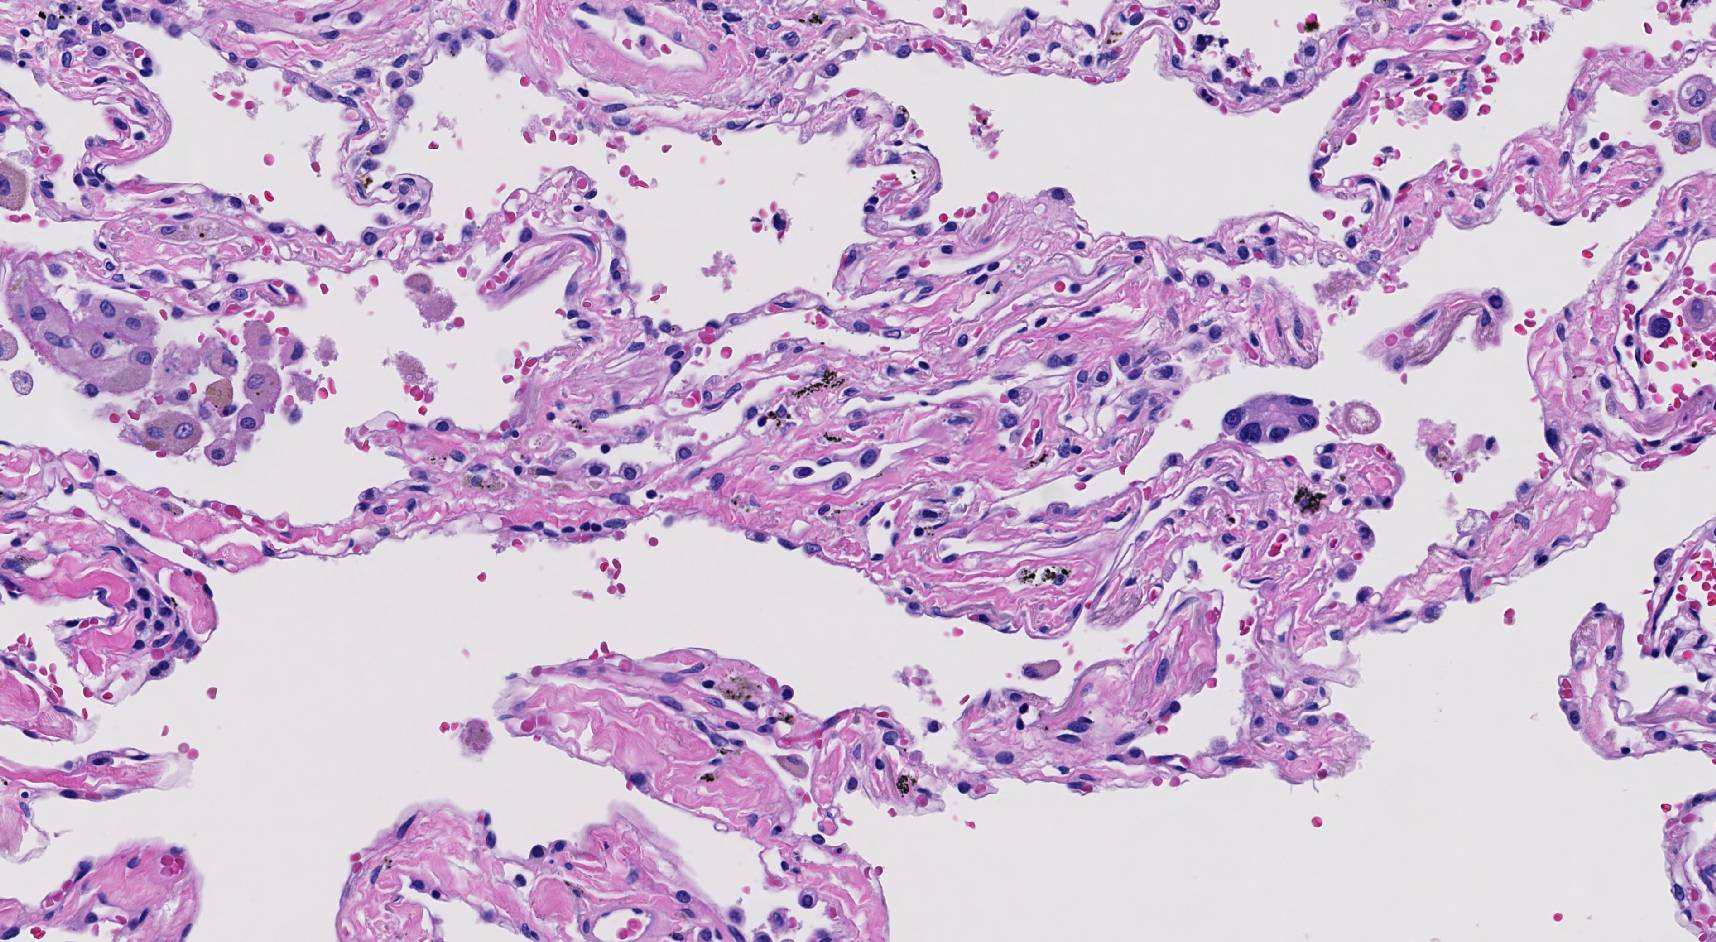stas: (1220, 394, 1320, 443)
